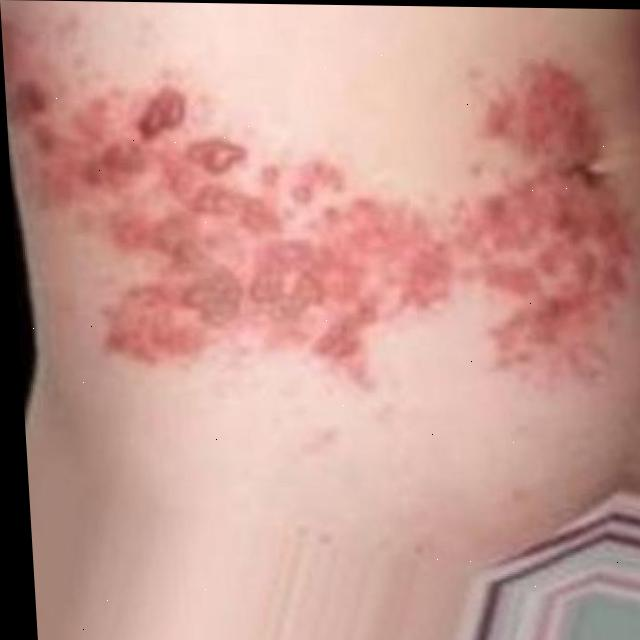Shingles: (8, 46, 640, 395)
